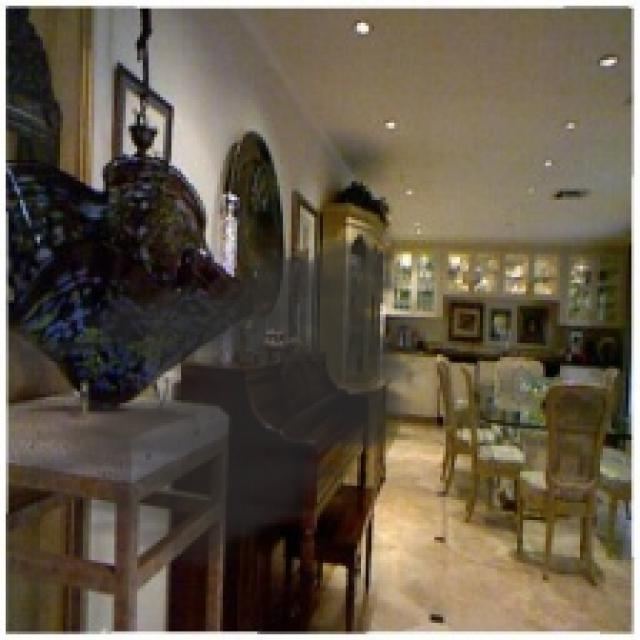smoke: (20, 220, 434, 580)
